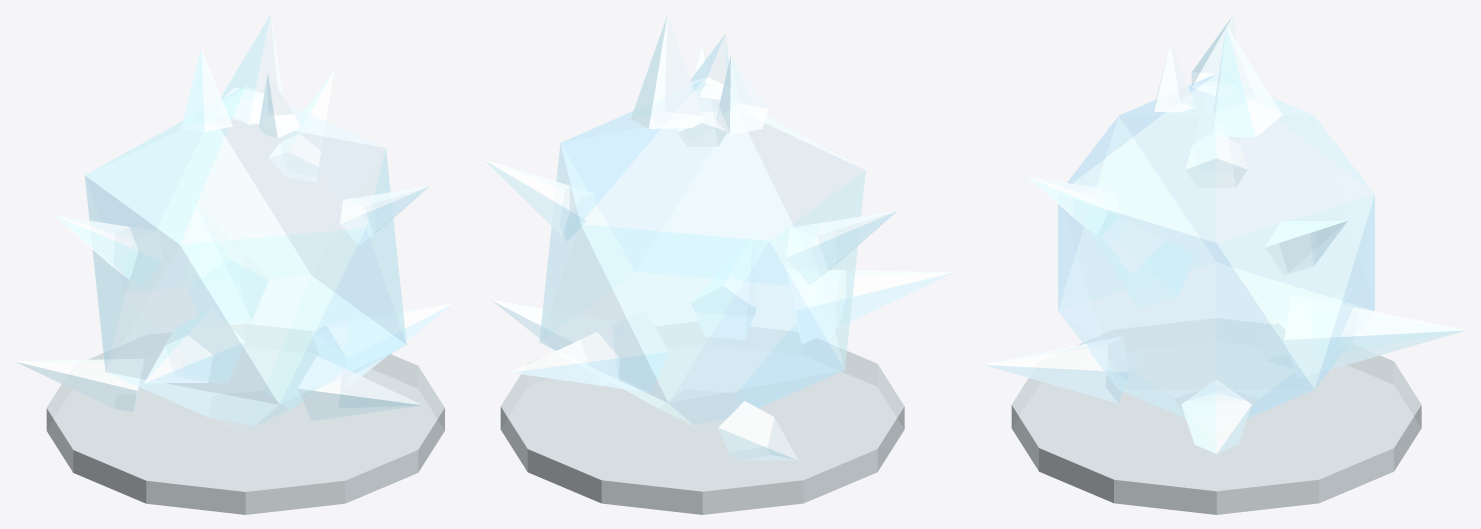
File: ice.glb
3 renders of one model, left to right at view 1: azimuth 30°, elevation 25°; view 2: azimuth 150°, elevation 25°; view 3: azimuth 270°, elevation 25°, orthographic. The views are drawn at different scales.
Parts seen in each view (by area): view 1: shell, frost, spike_1, spike_3, spike_0, spike_4, spike_2, spike_6, crown_0, spike_5, spike_7, crown_1 (+1 smaller); view 2: shell, frost, spike_1, spike_3, crown_0, spike_4, spike_6, spike_5, spike_2, spike_0, crown_1, spike_7 (+1 smaller); view 3: shell, frost, spike_1, spike_3, spike_4, crown_0, spike_0, spike_6, spike_5, spike_7, crown_2, crown_1 (+1 smaller).
Part boxes in pixels (x1,y1,x2,y2): shell: [84, 86, 406, 425]; frost: [46, 324, 444, 514]; spike_1: [188, 198, 268, 323]; spike_3: [144, 308, 244, 383]; spike_0: [313, 303, 453, 376]; spike_4: [298, 356, 422, 421]; spike_2: [15, 359, 143, 411]; spike_6: [53, 215, 163, 287]; crown_0: [221, 14, 283, 124]; spike_5: [269, 71, 333, 182]; spike_7: [340, 186, 429, 245]; crown_1: [181, 49, 232, 132]; shell: [539, 80, 865, 424]; frost: [500, 322, 904, 514]; spike_1: [510, 310, 668, 392]; spike_3: [786, 269, 954, 344]; crown_0: [631, 14, 703, 128]; spike_4: [691, 236, 756, 339]; spike_6: [786, 210, 897, 284]; spike_5: [483, 159, 595, 241]; spike_2: [718, 401, 798, 460]; spike_0: [491, 300, 618, 386]; crown_1: [716, 55, 768, 135]; spike_7: [677, 45, 726, 146]; shell: [1058, 74, 1374, 418]; frost: [1011, 318, 1421, 514]; spike_1: [1284, 294, 1466, 378]; spike_3: [1090, 218, 1194, 308]; spike_4: [983, 336, 1129, 403]; crown_0: [1213, 26, 1282, 137]; spike_0: [1181, 380, 1251, 453]; spike_6: [1185, 94, 1247, 187]; spike_5: [1265, 220, 1347, 275]; spike_7: [1027, 176, 1119, 237]; crown_2: [1154, 43, 1196, 112]; crown_1: [1191, 14, 1236, 95].
Bounding box in the file's own units: 1.28 × 1.25 × 1.3.
